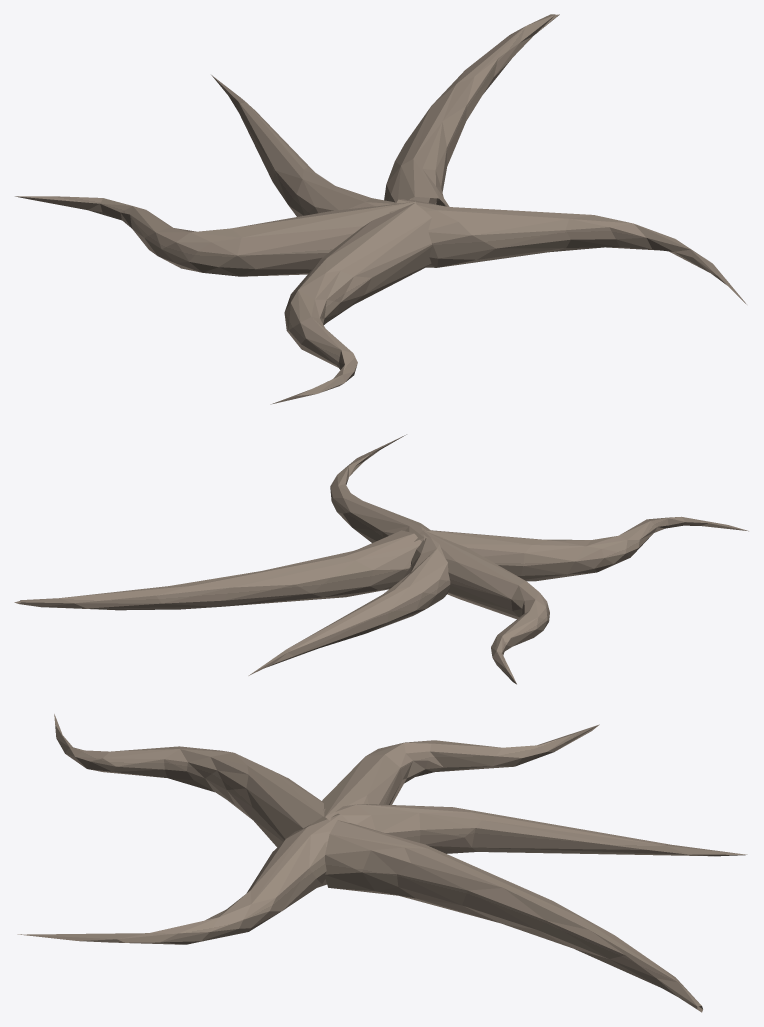
The model's file is Prefab_Generic_Base_Roots_B.glb.
3 renders of one model, top to bottom at view 1: azimuth 30°, elevation 25°; view 2: azimuth 150°, elevation 25°; view 3: azimuth 270°, elevation 25°, orthographic. The views are drawn at different scales.
Parts seen in each view (by area): view 1: BezierCurve.006; view 2: BezierCurve.006; view 3: BezierCurve.006.
Part boxes in pixels (box(x1,y1,x2,y2)): BezierCurve.006: box(15, 14, 746, 404); BezierCurve.006: box(14, 434, 748, 684); BezierCurve.006: box(17, 714, 747, 1012).
Bounding box in the file's own units: 4.95 × 0.5083 × 5.17.
Materials: 1 (1 with a texture image).
